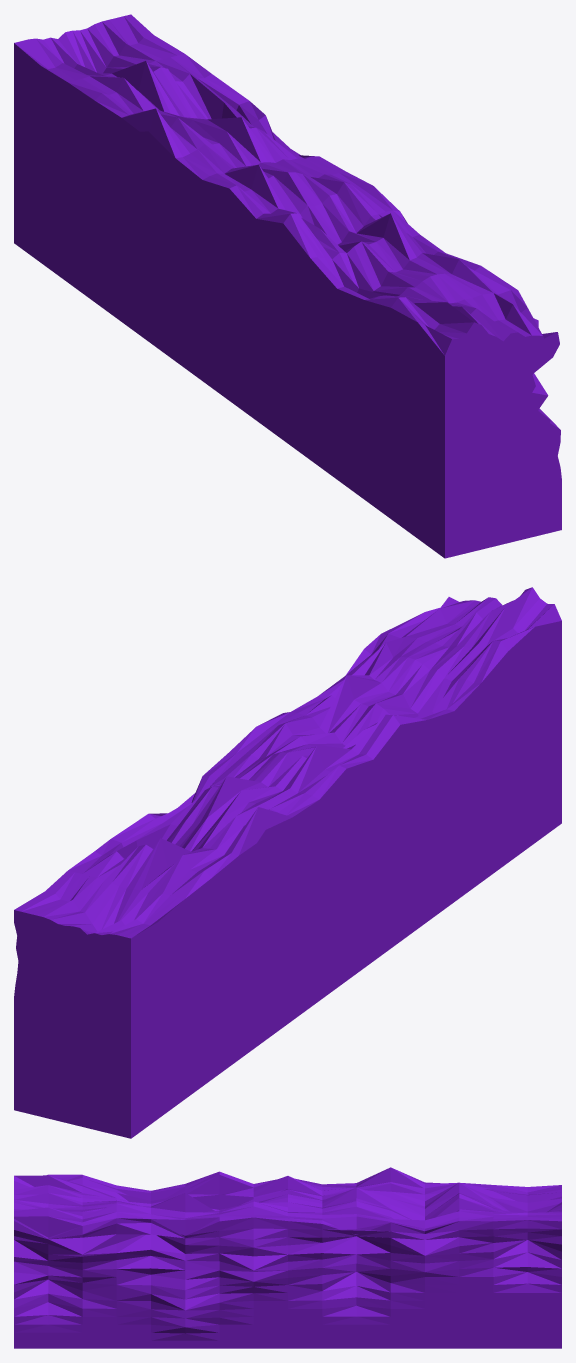
Rendered from BackGround.fbx.
3 views of the same model, one above another, from view 1: azimuth 30°, elevation 25°; view 2: azimuth 150°, elevation 25°; view 3: azimuth 270°, elevation 25° (orthographic). The views are drawn at different scales.
Parts seen in each view (by area): view 1: Cube; view 2: Cube; view 3: Cube.
Boxes of the visible parts, box(x1,y1,x2,y2) form: Cube: box(14, 14, 561, 558); Cube: box(14, 587, 561, 1138); Cube: box(14, 1167, 561, 1348).
Bounding box in the file's own units: 2.52 × 3.78 × 12.74.
